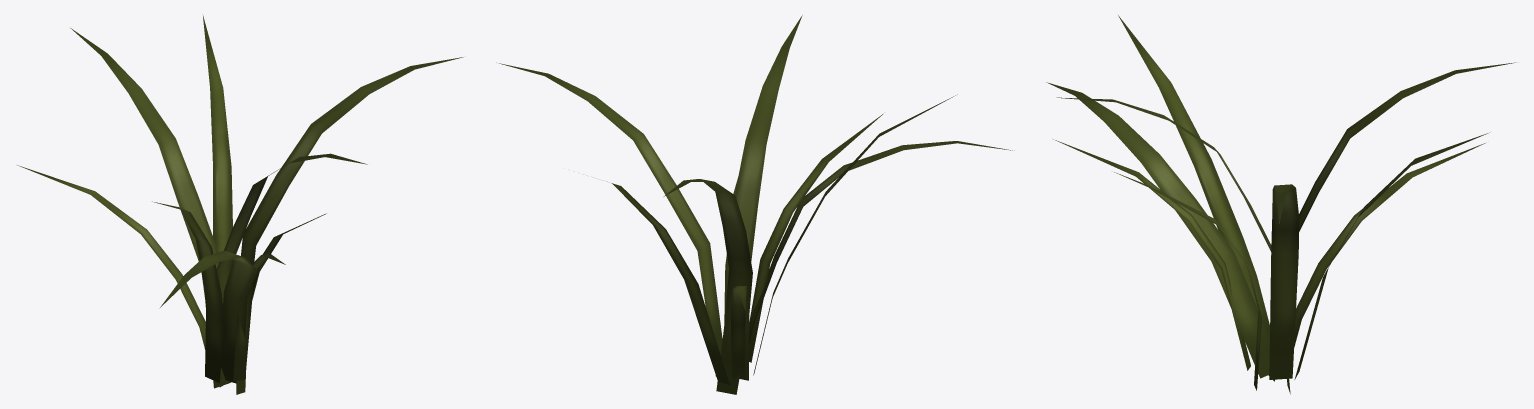
File: 001KusaM01.fbx
3 views of the same model, side by side, from view 1: azimuth 30°, elevation 25°; view 2: azimuth 150°, elevation 25°; view 3: azimuth 270°, elevation 25° (orthographic). The views are drawn at different scales.
Visible parts, largest first — view 1: KusaM01; view 2: KusaM01; view 3: KusaM01.
Part boxes in pixels (x1,y1,x2,y2): KusaM01: (17,14,463,394); KusaM01: (496,15,1014,394); KusaM01: (1046,15,1516,394).
Size of the model in its own units: 101 by 67.79 by 93.85.
1 material, 1 textured.
